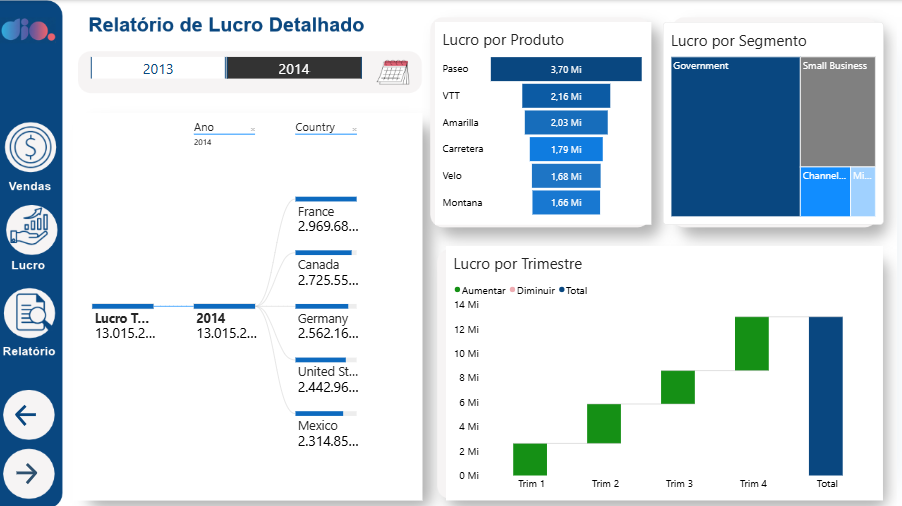

The dashboard page shown, as its layout file describes it:
{"tool":"powerbi","page":{"name":"Página 2","canvas":[1920,1080],"ordinal":1},"visuals":[{"type":"image","box":[0,0,1920,1081],"z":0},{"type":"decompositionTreeVisual","fields":{"Analyze":["Sum(financials.Profit)"],"ExplainBy":["financials.Year","financials.Country"]},"box":[167,239.7,743.2,824],"z":1000},{"type":"waterfallChart","title":"Lucro por Trimestre","fields":{"Category":["financials.Trimestre","financials.Date.Variation.Hierarquia de datas.Trimestre"],"Y":["Sum(financials.Profit)"]},"box":[961.3,522.4,929,541.3],"z":2000},{"type":"slicer","fields":{"Values":["financials.Year"]},"box":[166.7,118.3,634.6,48.4],"z":3000},{"type":"funnel","title":"Lucro por Produto","fields":{"Category":["financials.Product"],"Y":["Sum(financials.Profit)"]},"box":[937.1,45.8,460.5,430.9],"z":4000},{"type":"treemap","title":"Lucro por Segmento","fields":{"Group":["financials.Segment"],"Values":["Sum(financials.Profit)"]},"box":[1421.8,45.8,468.6,430.9],"z":5000},{"type":"actionButton","box":[0,819.3,137.1,129.1],"z":6000},{"type":"actionButton","box":[15.6,951.1,106.3,112.7],"z":7000},{"type":"actionButton","box":[29.6,631.9,107.6,88.7],"z":8000},{"type":"actionButton","box":[0,260.8,137.1,118.3],"z":9000},{"type":"actionButton","box":[0,607.7,137.1,112.9],"z":10000}]}

Visuals, with their boxes on the page's 1920x1080 design canvas (x1, y1, x2, y2). These are canvas units, not pixel positions in the 902x506 screenshot, which may show the page scaled, cropped or inside an application window:
image: [0,0,1920,1081]
decompositionTreeVisual - Sum(financials.Profit) x financials.Year: [167,240,910,1064]
"Lucro por Trimestre" waterfallChart: [961,522,1890,1064]
slicer - financials.Year: [167,118,801,167]
"Lucro por Produto" funnel: [937,46,1398,477]
"Lucro por Segmento" treemap: [1422,46,1890,477]
actionButton: [0,819,137,948]
actionButton: [16,951,122,1064]
actionButton: [30,632,137,721]
actionButton: [0,261,137,379]
actionButton: [0,608,137,721]
